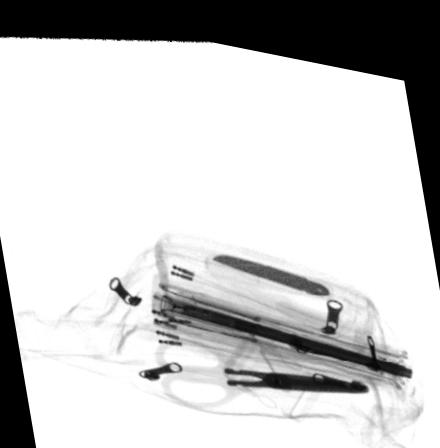Knife: (210, 244, 326, 281)
Scissors: (154, 328, 366, 401)
